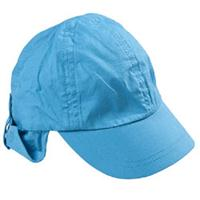hat: (4, 14, 195, 179)
